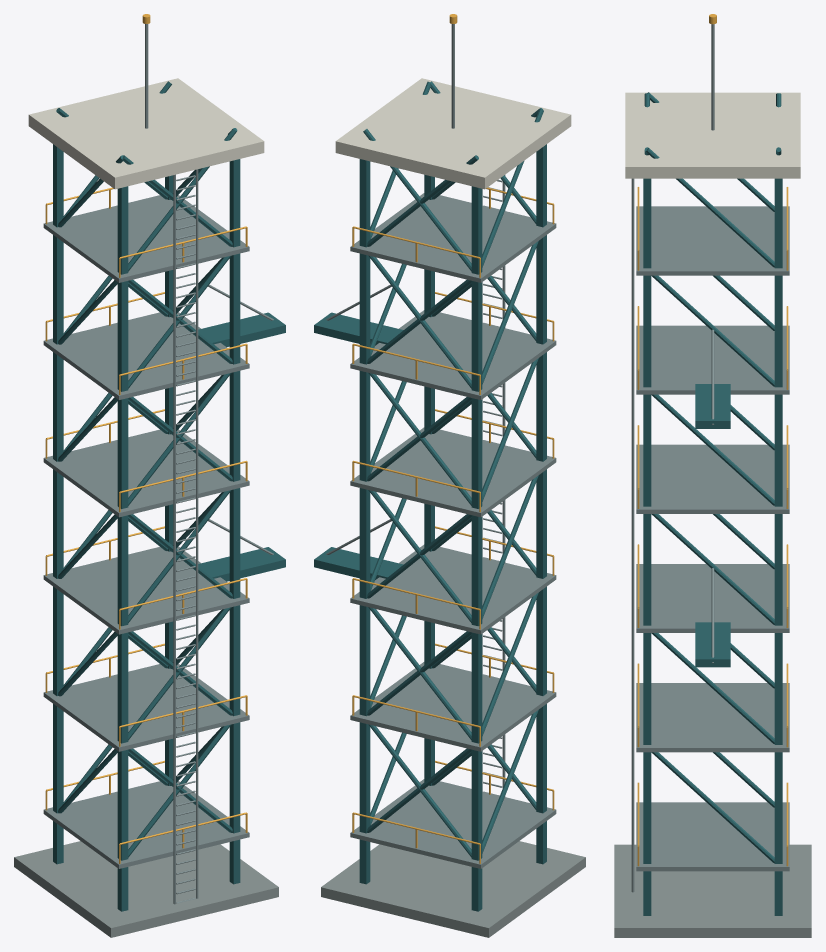
The model's file is service_tower.glb.
3 views of the same model, side by side, from view 1: azimuth 30°, elevation 25°; view 2: azimuth 150°, elevation 25°; view 3: azimuth 270°, elevation 25° (orthographic).
Visible parts, largest first — view 1: service_tower; view 2: service_tower; view 3: service_tower.
Boxes of the visible parts, x1=… form: service_tower: x1=14, y1=14, x2=285, y2=937; service_tower: x1=314, y1=14, x2=585, y2=937; service_tower: x1=614, y1=14, x2=811, y2=937.
Size of the model in its own units: 11.54 by 44.39 by 9.
